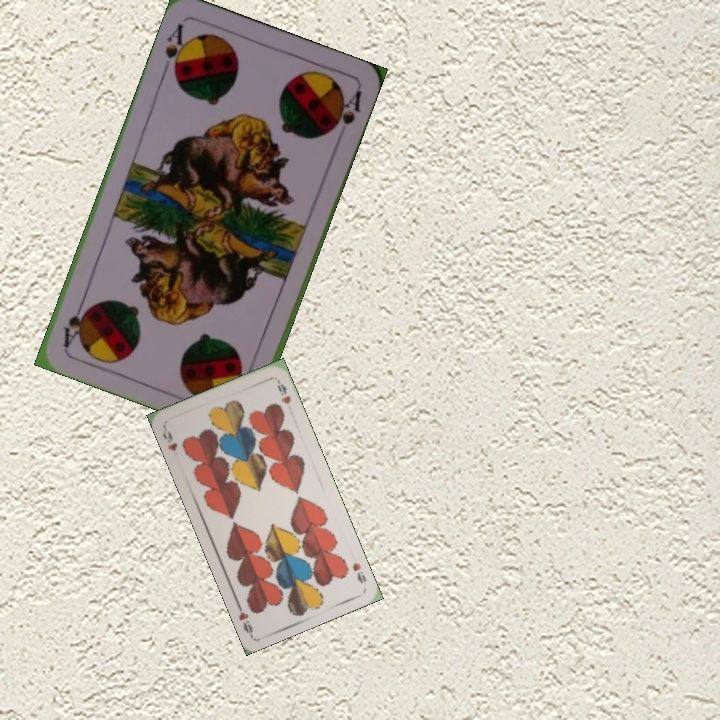H9: (158, 423, 180, 454), (348, 558, 369, 586)
SA: (159, 19, 191, 79)
